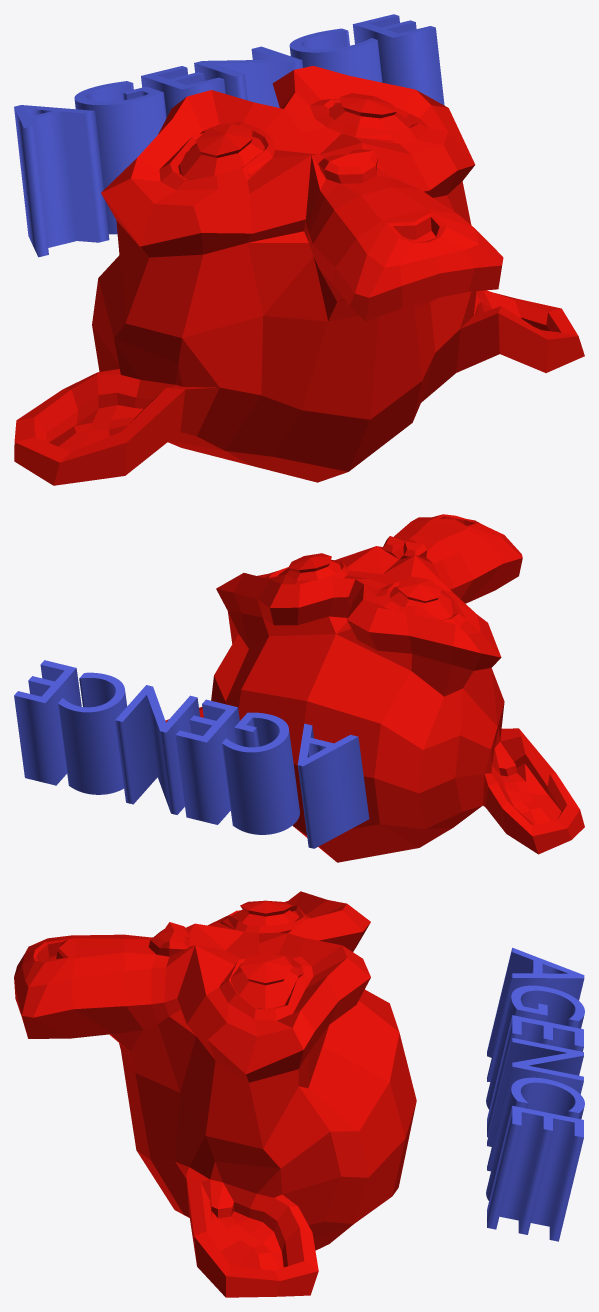
The model's file is asset.gltf.
3 views of the same model, one above another, from view 1: azimuth 30°, elevation 25°; view 2: azimuth 150°, elevation 25°; view 3: azimuth 270°, elevation 25° (orthographic). The views are drawn at different scales.
Parts seen in each view (by area): view 1: Suzanne, Text; view 2: Suzanne, Text; view 3: Suzanne, Text.
Part boxes in pixels (x1,y1,x2,y2): Suzanne: (14,66,584,485); Text: (14,14,444,257); Suzanne: (165,514,584,862); Text: (14,660,369,848); Suzanne: (14,891,416,1297); Text: (486,947,584,1241).
Bounding box in the file's own units: 0.5538 × 0.3429 × 0.5612.
